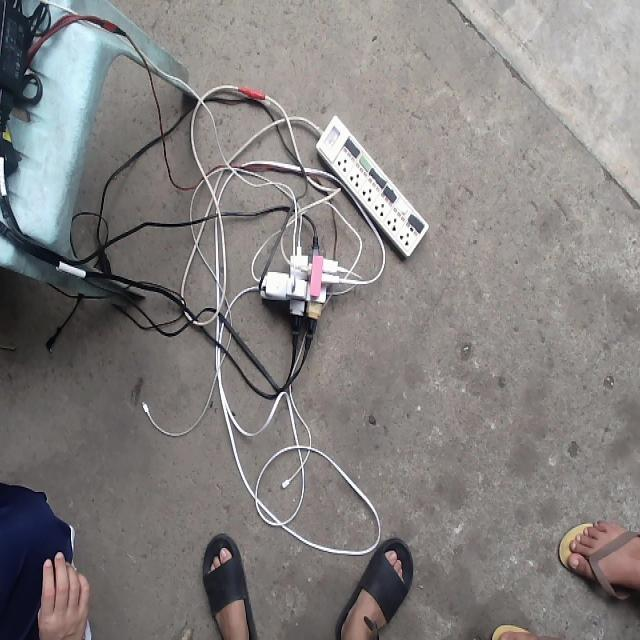-: (247, 231, 343, 348)
